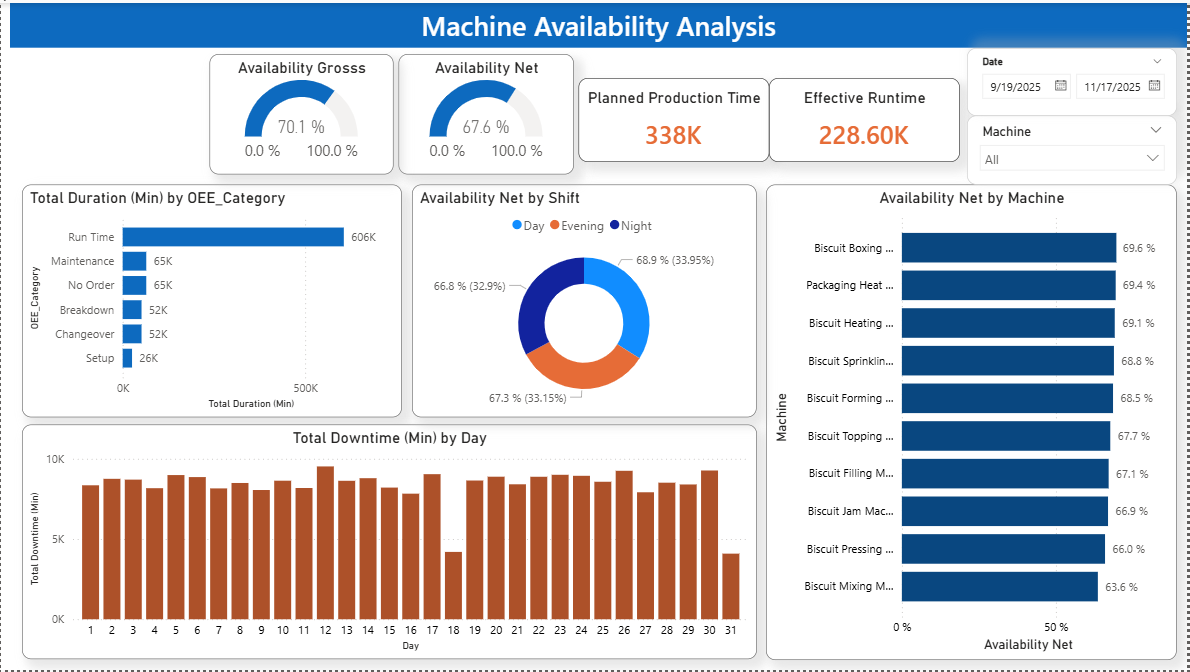

The dashboard page shown, as its layout file describes it:
{"tool":"powerbi","page":{"name":"Availability","canvas":[1280,720],"ordinal":1},"visuals":[{"type":"barChart","fields":{"Category":["DIM_DOWNTIME_CAT.OEE_Category"],"Y":["FACT_PRODUCTION.Total Duration (Min)"]},"box":[23.1,195.6,409.7,251],"z":0},{"type":"clusteredColumnChart","fields":{"Y":["FACT_PRODUCTION.Total Downtime (Min)"],"Category":["DIM_DATE.Date.Variation.Date Hierarchy.Year","DIM_DATE.Date.Variation.Date Hierarchy.Quarter","DIM_DATE.Date.Variation.Date Hierarchy.Month","DIM_DATE.Date.Variation.Date Hierarchy.Day"]},"box":[22.2,455.6,793.1,253.6],"z":1000},{"type":"barChart","fields":{"Y":["FACT_PRODUCTION.Availability Net"],"Category":["DIM_MACHINE.Machine"]},"box":[826.4,196,443.5,513.2],"z":2000},{"type":"shape","title":"fhgvjhbklhvghb","box":[9.2,0,1270.8,48],"z":3000},{"type":"donutChart","fields":{"Y":["FACT_PRODUCTION.Availability Net"],"Category":["DIM_SHIFT.Shift"]},"box":[443.5,196,371.8,251.6],"z":4000},{"type":"gauge","title":"Availability Net","fields":{"Y":["FACT_PRODUCTION.Availability Net"]},"box":[428.9,54.4,189.5,129.7],"z":5000},{"type":"cardVisual","title":"Planned Production Time","fields":{"Data":["FACT_PRODUCTION.Planned Production Time (Min)"]},"box":[623.6,80.9,205.8,90.7],"z":6000},{"type":"cardVisual","title":"Effective Runtime","fields":{"Data":["FACT_PRODUCTION.Runtime (Min)"]},"box":[829.4,80.9,205.8,90.7],"z":7000},{"type":"slicer","fields":{"Values":["DIM_MACHINE.Machine"]},"box":[1042.8,121.5,226.7,74.4],"z":8000},{"type":"slicer","fields":{"Values":["DIM_DATE.Date"]},"box":[1042.8,48.1,226.7,73.5],"z":9000},{"type":"gauge","title":"Availability Grosss","fields":{"Y":["FACT_PRODUCTION.Availability Gross"]},"box":[224.9,54.4,198.6,129.7],"z":10000}]}

Visuals, with their boxes in screenshot pixels (x1, y1, x2, y2), scaled from the page's 1280x720 canvas onto the 1190x672 screenshot:
barChart - DIM_DOWNTIME_CAT.OEE_Category x FACT_PRODUCTION.Total Duration (Min): detection(21, 183, 402, 417)
clusteredColumnChart - FACT_PRODUCTION.Total Downtime (Min) x DIM_DATE.Date.Variation.Date Hierarchy.Year: detection(21, 425, 758, 662)
barChart - FACT_PRODUCTION.Availability Net x DIM_MACHINE.Machine: detection(768, 183, 1181, 662)
"fhgvjhbklhvghb" shape: detection(9, 0, 1189, 45)
donutChart - FACT_PRODUCTION.Availability Net x DIM_SHIFT.Shift: detection(412, 183, 758, 418)
"Availability Net" gauge: detection(399, 51, 575, 172)
"Planned Production Time" cardVisual: detection(580, 76, 771, 160)
"Effective Runtime" cardVisual: detection(771, 76, 962, 160)
slicer - DIM_MACHINE.Machine: detection(969, 113, 1180, 183)
slicer - DIM_DATE.Date: detection(969, 45, 1180, 113)
"Availability Grosss" gauge: detection(209, 51, 394, 172)
